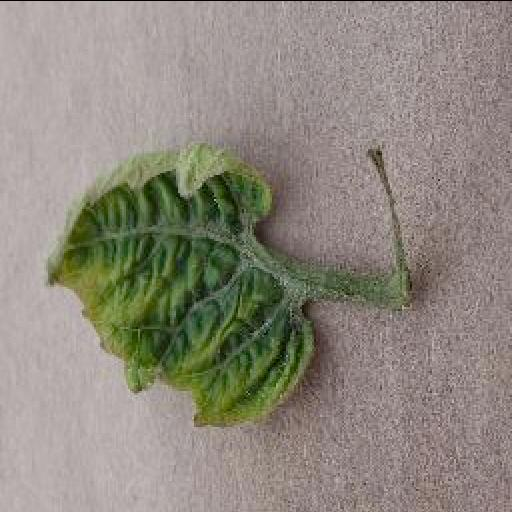disease_tomato: (42, 138, 314, 426)
